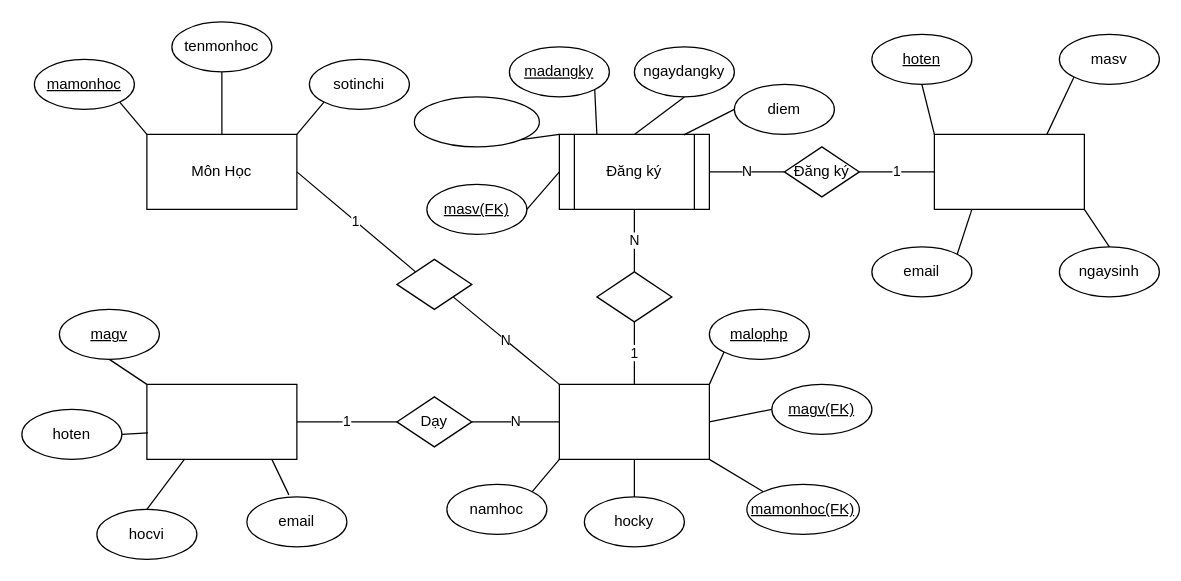
The diagram is 1181 pixels wide and 581 high, and some of its shapes have lost their labels. Each missing label, with the centre of its shape:
"Có" goes at [634,296].
"Giảng viên" goes at [221,421].
"Lớp học phần" goes at [633,421].
"malophp(FK)" goes at [476,121].
"Mở" goes at [434,283].
"Sinh Viên" goes at [1008,171].
